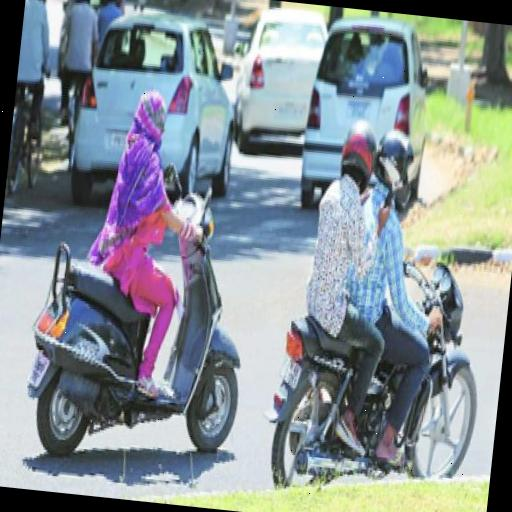helmet: (338, 103, 512, 474)
no helmet: (58, 65, 269, 462)
